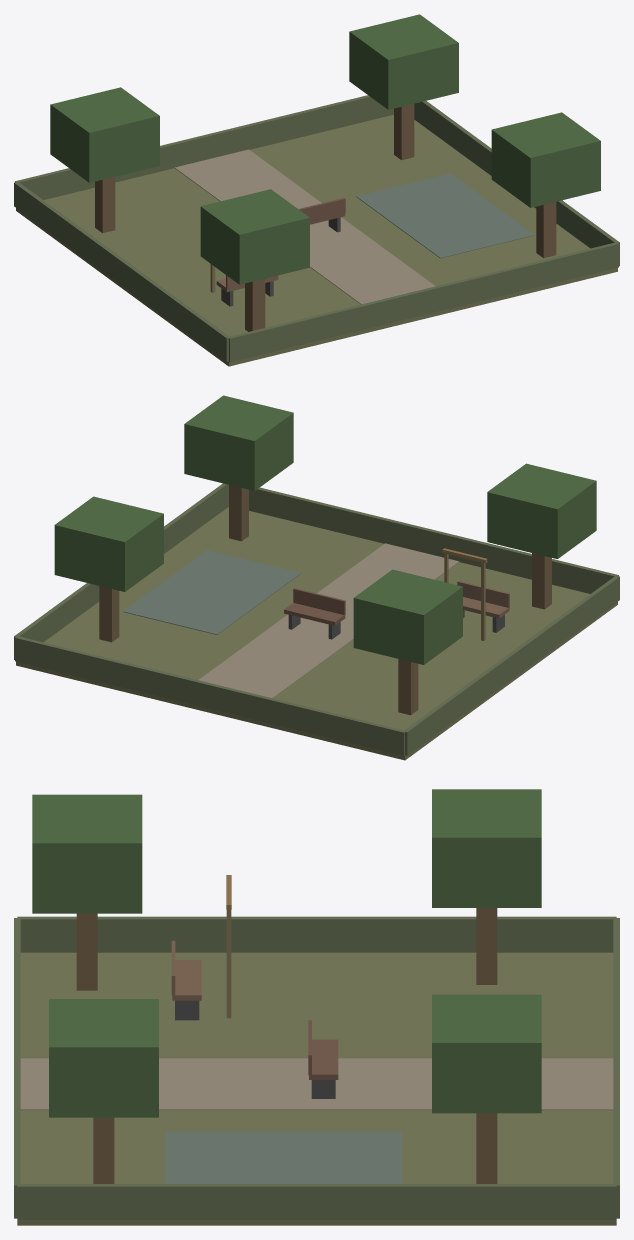
File: plazaBarrio.obj
3 views of the same model, one above another, from view 1: azimuth 30°, elevation 25°; view 2: azimuth 150°, elevation 25°; view 3: azimuth 270°, elevation 25° (orthographic). The views are drawn at different scales.
Parts seen in each view (by area): view 1: plazaBarrio_c2_9, plazaBarrio_c2_13, plazaBarrio_c2_14, plazaBarrio_c2_24, plazaBarrio_c2_26, plazaBarrio_c2_28, plazaBarrio_c2_30, plazaBarrio_c2_31, plazaBarrio_c2_11, plazaBarrio_c2_10, plazaBarrio_c2_12, plazaBarrio_c2_23 (+4 smaller); view 2: plazaBarrio_c2_9, plazaBarrio_c2_11, plazaBarrio_c2_14, plazaBarrio_c2_13, plazaBarrio_c2_26, plazaBarrio_c2_24, plazaBarrio_c2_30, plazaBarrio_c2_28, plazaBarrio_c2_31, plazaBarrio_c2_10, plazaBarrio_c2_12, plazaBarrio_c2_23 (+7 smaller); view 3: plazaBarrio_c2_9, plazaBarrio_c2_12, plazaBarrio_c2_10, plazaBarrio_c2_14, plazaBarrio_c2_26, plazaBarrio_c2_28, plazaBarrio_c2_24, plazaBarrio_c2_30, plazaBarrio_c2_31, plazaBarrio_c2_11, plazaBarrio_c2_13, plazaBarrio_c2_25 (+6 smaller).
Boxes of the visible parts, x1,y1,x2,y2 form: plazaBarrio_c2_9: (16,114,617,366); plazaBarrio_c2_13: (229,242,618,362); plazaBarrio_c2_14: (174,149,435,304); plazaBarrio_c2_24: (50,87,159,182); plazaBarrio_c2_26: (200,189,309,284); plazaBarrio_c2_28: (349,14,458,109); plazaBarrio_c2_30: (491,112,600,207); plazaBarrio_c2_31: (356,173,534,258); plazaBarrio_c2_11: (15,95,393,199); plazaBarrio_c2_10: (14,182,230,361); plazaBarrio_c2_12: (414,101,619,266); plazaBarrio_c2_23: (95,177,115,233); plazaBarrio_c2_9: (16,507,617,760); plazaBarrio_c2_11: (15,636,404,755); plazaBarrio_c2_14: (198,543,459,698); plazaBarrio_c2_13: (249,487,618,593); plazaBarrio_c2_26: (487,463,596,558); plazaBarrio_c2_24: (353,569,462,664); plazaBarrio_c2_30: (184,395,293,490); plazaBarrio_c2_28: (54,496,163,591); plazaBarrio_c2_31: (123,550,301,634); plazaBarrio_c2_10: (403,575,619,755); plazaBarrio_c2_12: (14,483,228,659); plazaBarrio_c2_23: (398,659,418,715); plazaBarrio_c2_9: (17,952,616,1225); plazaBarrio_c2_12: (17,1184,616,1219); plazaBarrio_c2_10: (17,916,616,952); plazaBarrio_c2_14: (20,1058,613,1110); plazaBarrio_c2_26: (32,794,142,913); plazaBarrio_c2_28: (432,994,541,1113); plazaBarrio_c2_24: (432,789,541,907); plazaBarrio_c2_30: (49,999,158,1117); plazaBarrio_c2_31: (165,1131,401,1183); plazaBarrio_c2_11: (613,918,619,1218); plazaBarrio_c2_13: (14,918,20,1218); plazaBarrio_c2_25: (76,913,97,990).
Bounding box in the file's own units: 19.2 × 5.79 × 18.2.
